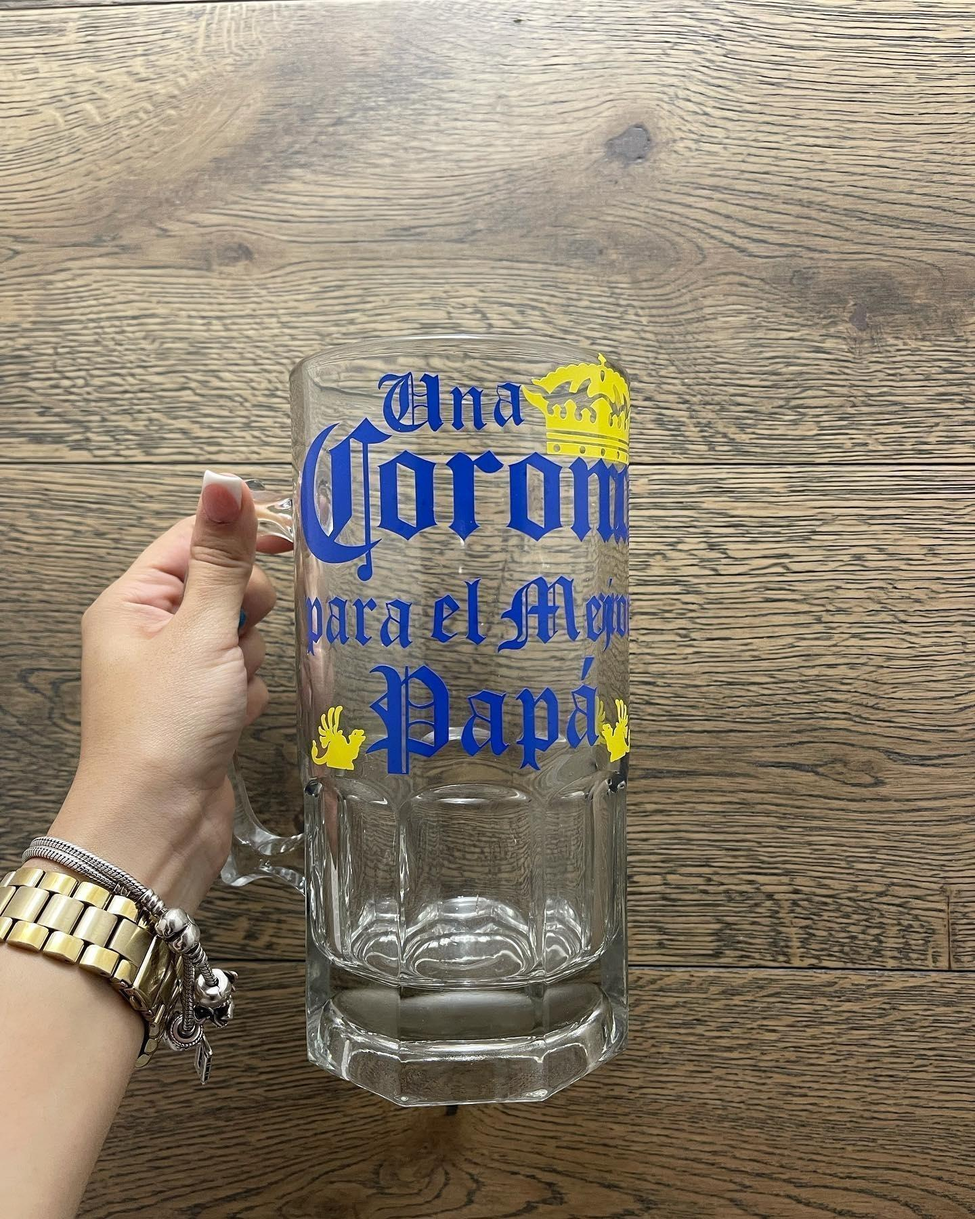glass-mug: (204, 335, 651, 1125)
